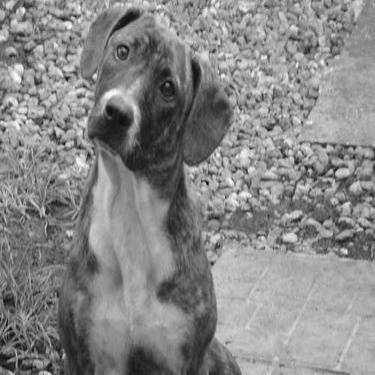dog: (46, 3, 250, 370)
